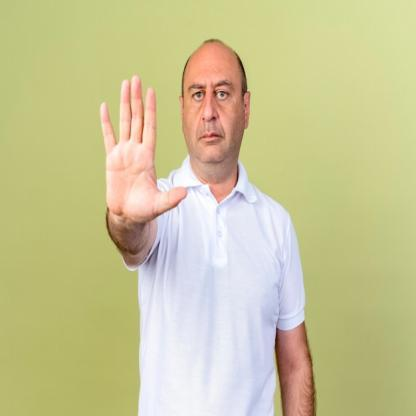stop: (96, 70, 190, 232)
